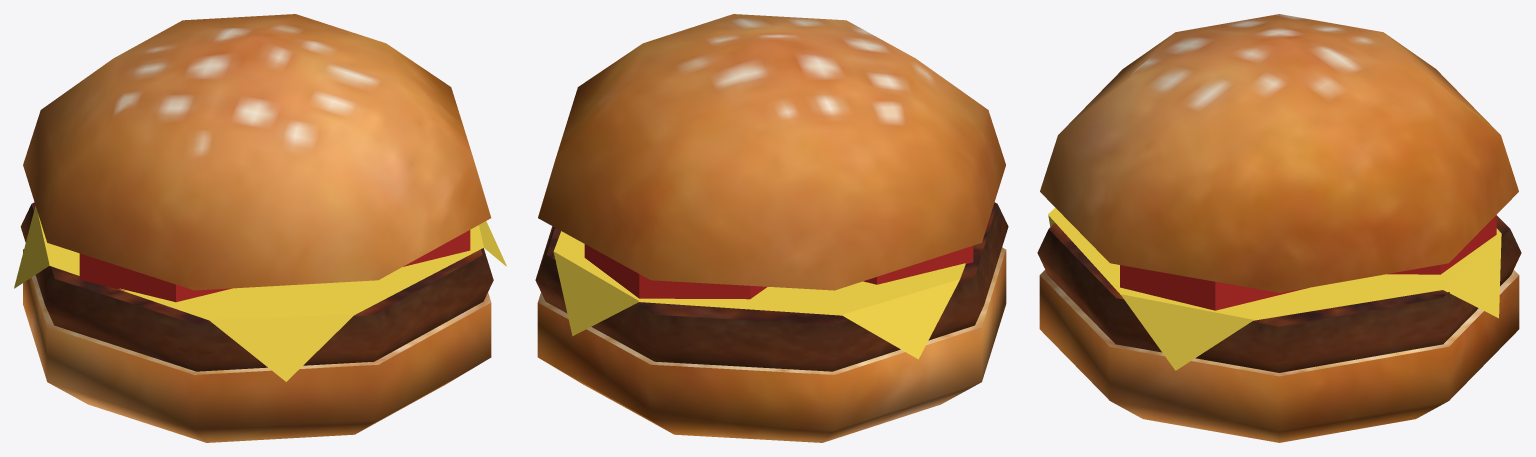
Rendered from Burger.fbx.
3 renders of one model, left to right at view 1: azimuth 30°, elevation 25°; view 2: azimuth 150°, elevation 25°; view 3: azimuth 270°, elevation 25°, orthographic.
Visible parts, largest first — view 1: Burger; view 2: Burger; view 3: Burger.
Boxes of the visible parts, <box> form: Burger: <box>14,14,506,442</box>; Burger: <box>535,14,1008,442</box>; Burger: <box>1037,14,1521,442</box>.
Size of the model in its own units: 161 by 117 by 161.
